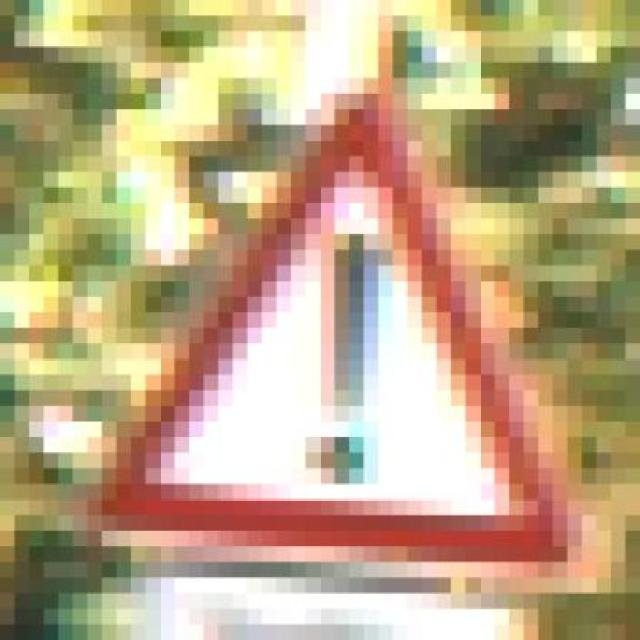Attention Please-: (43, 62, 611, 578)
